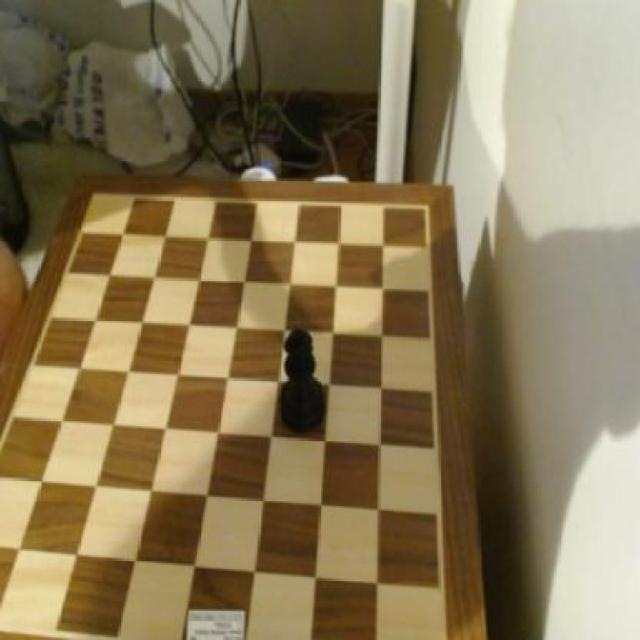black-pawn: (271, 322, 326, 432)
